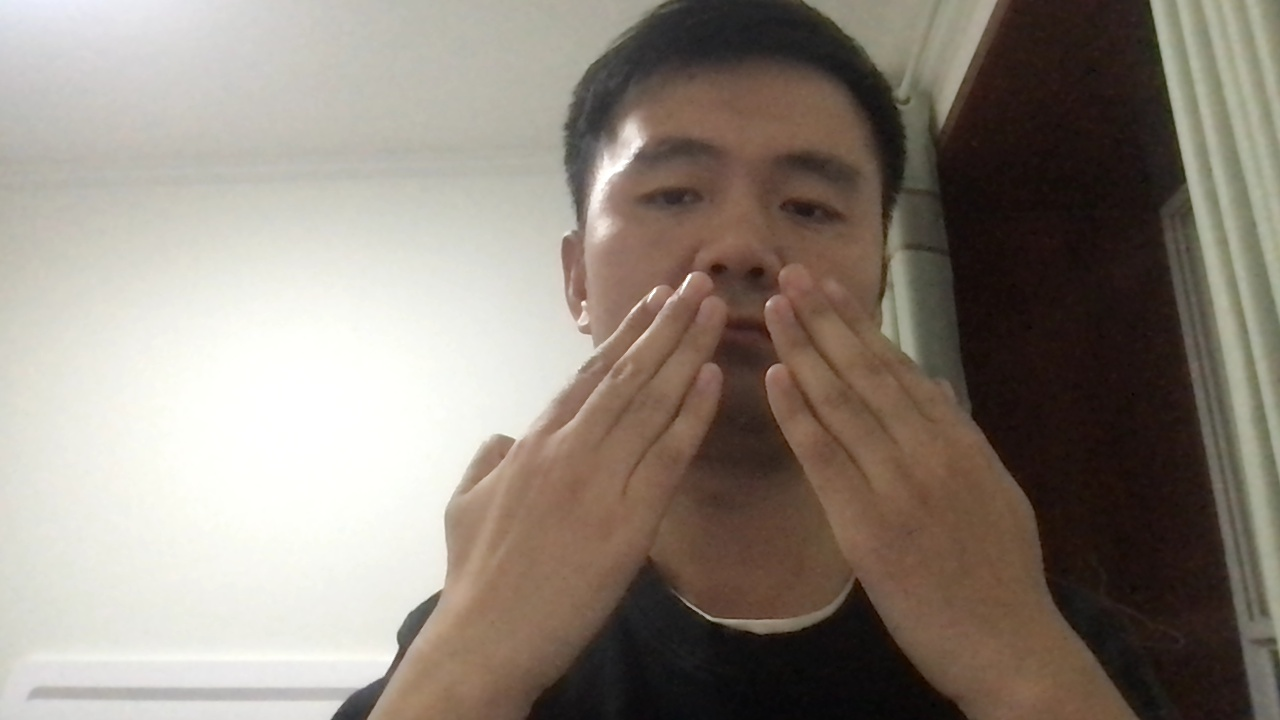thanks: (422, 264, 1067, 668)
